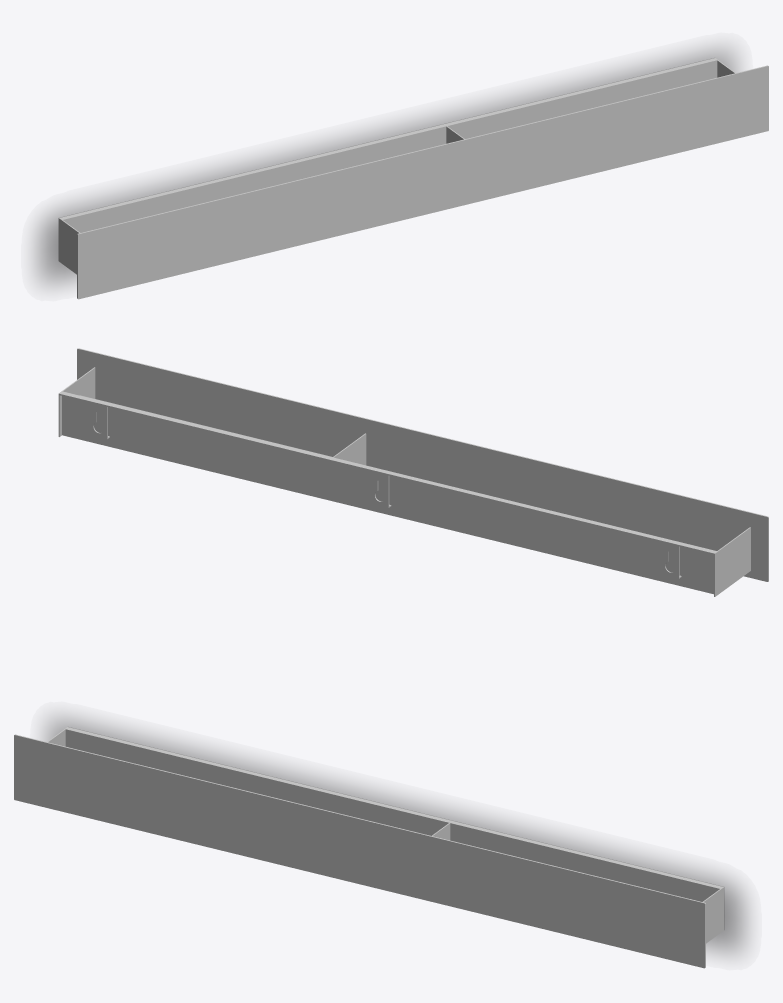
Rendered from skyline-double.da8e9a4d32.ar.glb.
The picture shows the model from 3 angles, top to bottom: view 1: azimuth 30°, elevation 25°; view 2: azimuth 150°, elevation 25°; view 3: azimuth 330°, elevation 25°; orthographic projection.
Parts seen in each view (by area): view 1: NAUO1, object 2; view 2: NAUO1; view 3: NAUO1, object 2.
Part boxes in pixels (left/top/right/bottom): NAUO1: left=58, top=57, right=768, bottom=299; object 2: left=34, top=48, right=738, bottom=285; NAUO1: left=58, top=348, right=768, bottom=596; NAUO1: left=14, top=726, right=724, bottom=968; object 2: left=44, top=717, right=748, bottom=954.
Bounding box in the file's own units: 1.08 × 0.17 × 0.092.
2 materials, 1 textured.
